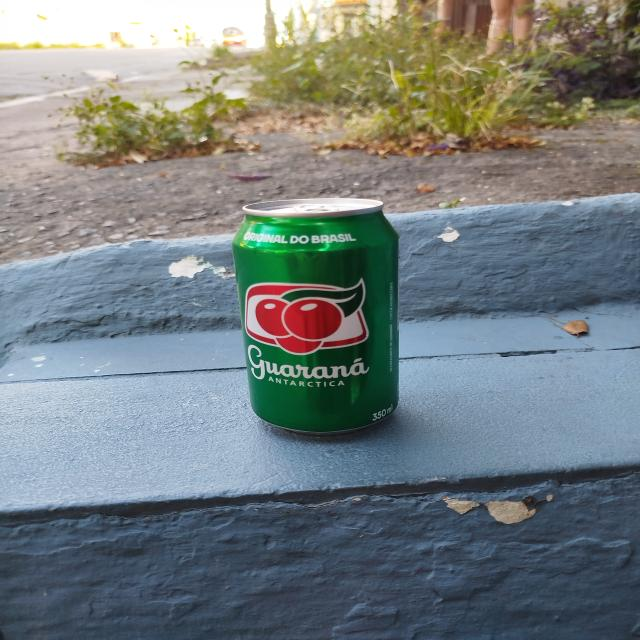Guarana: (239, 208, 405, 431)
